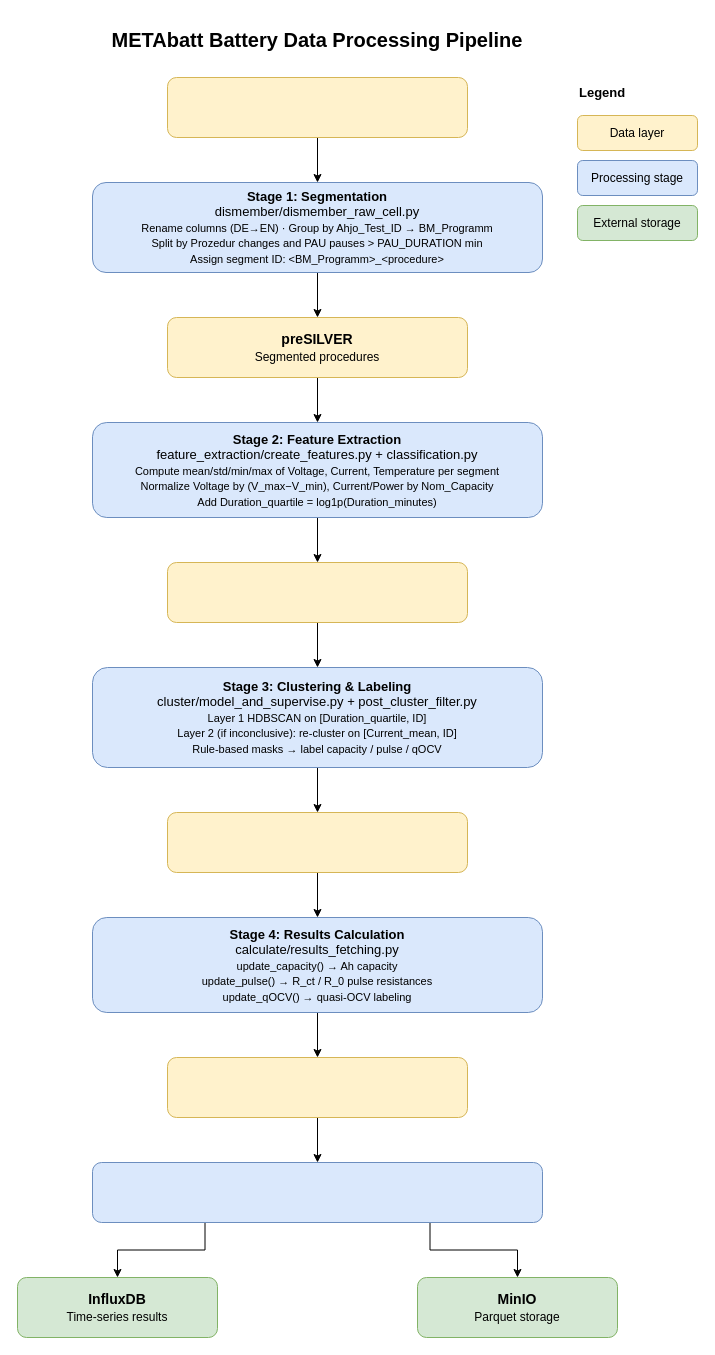
Some shapes in this 715 by 1355 pixel diagram are drawn without their labels. The shapes that lost their labels are listed below. From the top down, each one's centre as x and y in pixels, then its label:
point 317,107: BRONZE_CU Raw parquet files (German column names)
point 317,592: with_features_pre_labeled Features CSV per cell
point 317,842: SILVER Labeled procedures
point 317,1087: GOLD Results
point 317,1192: Stage 5: Output output/ + util/connect_minio.py
